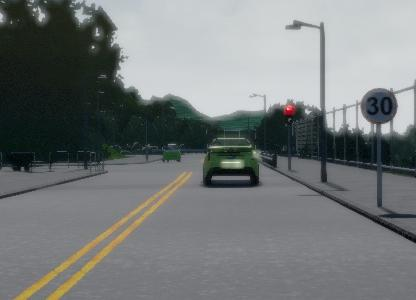Speed_30: (359, 85, 397, 126)
